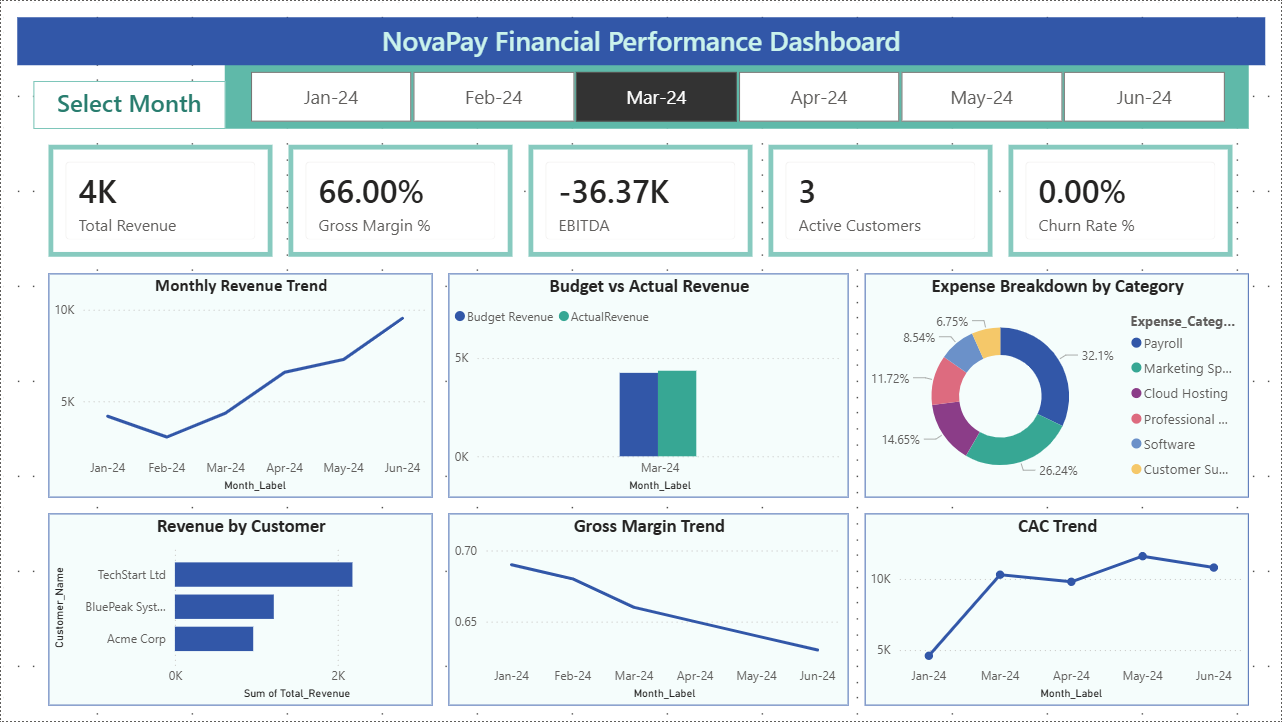

The page's visual inventory and layout, read from the dashboard file:
{"tool":"powerbi","page":{"name":"Executive Dashboard","canvas":[1280,720],"ordinal":0},"visuals":[{"type":"slicer","fields":{"Values":["tblDate.Month_Label"]},"box":[224,64,1024,64],"z":0},{"type":"cardVisual","fields":{"Data":["Monthly_Summary.Total Revenue"]},"box":[48,144,224,112],"z":1000},{"type":"cardVisual","fields":{"Data":["Monthly_Summary.Gross Margin %"]},"box":[288,144,224,112],"z":2000},{"type":"cardVisual","fields":{"Data":["Monthly_Summary.Total EBITDA"]},"box":[528,144,224,112],"z":3000},{"type":"cardVisual","fields":{"Data":["tblKPI.Active Customers KPI"]},"box":[768,144,224,112],"z":4000},{"type":"cardVisual","fields":{"Data":["tblKPI.Churn Rate %"]},"box":[1008,144,224,112],"z":5000},{"type":"lineChart","title":"Monthly Revenue Trend","fields":{"Category":["tblDate.Month_Label"],"Y":["Sum(Monthly_Summary.Actual_Revenue)"]},"box":[48,272,384,224],"z":6000},{"type":"clusteredColumnChart","title":"Budget vs Actual Revenue","fields":{"Category":["tblDate.Month_Label"],"Y":["Sum(Budget_vs_Actual.Budget_Revenue)","Sum(Budget_vs_Actual.Actual_Revenue)"]},"box":[448,272,400,224],"z":7000},{"type":"donutChart","title":"Expense Breakdown by Category","fields":{"Category":["tblExpenses.Expense_Category"],"Y":["Sum(tblExpenses.Actual_Expense)"]},"box":[864,272,384,224],"z":8000},{"type":"barChart","title":"Revenue by Customer","fields":{"Category":["tblCustomers.Customer_Name"],"Y":["Sum(tblRevenue.Total_Revenue)"]},"box":[48,512,384,192],"z":9000},{"type":"lineChart","title":"Gross Margin Trend","fields":{"Category":["tblDate.Month_Label"],"Y":["Avg(tblKPI.Gross_Margin)"]},"box":[448,512,400,192],"z":10000},{"type":"lineChart","title":"CAC Trend","fields":{"Category":["tblDate.Month_Label"],"Y":["Avg(tblKPI.CAC)"]},"box":[864,512,384,192],"z":11000},{"type":"textbox","box":[32,80,192,48],"z":12000},{"type":"textbox","box":[16,16,1248,48],"z":13000}]}

Visuals, with their boxes in screenshot pixels (x1, y1, x2, y2), scaled from the page's 1280x720 canvas onto the 1282x722 screenshot:
slicer - tblDate.Month_Label: box=[224, 64, 1250, 128]
cardVisual - Monthly_Summary.Total Revenue: box=[48, 144, 272, 257]
cardVisual - Monthly_Summary.Gross Margin %: box=[288, 144, 513, 257]
cardVisual - Monthly_Summary.Total EBITDA: box=[529, 144, 753, 257]
cardVisual - tblKPI.Active Customers KPI: box=[769, 144, 994, 257]
cardVisual - tblKPI.Churn Rate %: box=[1010, 144, 1234, 257]
"Monthly Revenue Trend" lineChart: box=[48, 273, 433, 497]
"Budget vs Actual Revenue" clusteredColumnChart: box=[449, 273, 849, 497]
"Expense Breakdown by Category" donutChart: box=[865, 273, 1250, 497]
"Revenue by Customer" barChart: box=[48, 513, 433, 706]
"Gross Margin Trend" lineChart: box=[449, 513, 849, 706]
"CAC Trend" lineChart: box=[865, 513, 1250, 706]
textbox: box=[32, 80, 224, 128]
textbox: box=[16, 16, 1266, 64]
